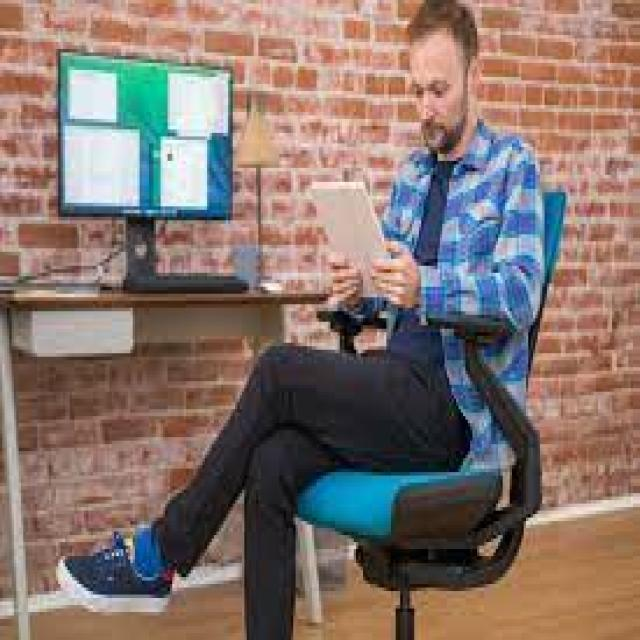chair: (224, 132, 580, 640)
